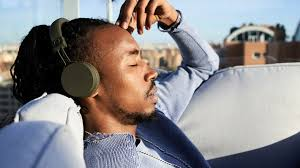s.black: (105, 70, 144, 111)
